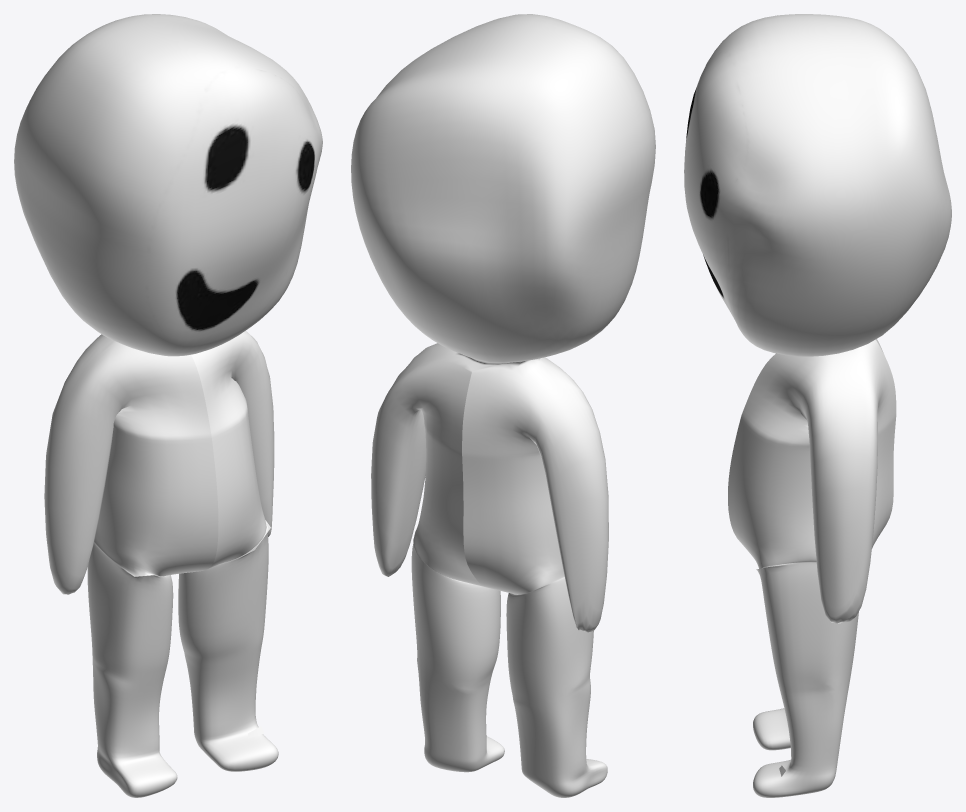
File: spirit.fbx
3 views of the same model, side by side, from view 1: azimuth 30°, elevation 25°; view 2: azimuth 150°, elevation 25°; view 3: azimuth 270°, elevation 25° (orthographic). The views are drawn at different scales.
Visible parts, largest first — view 1: pCube5; view 2: pCube5; view 3: pCube5.
Boxes of the visible parts, x1,y1,x2,y2 form: pCube5: (14, 14, 322, 797); pCube5: (351, 14, 655, 797); pCube5: (684, 14, 951, 797).
Size of the model in its own units: 1.29 by 3.58 by 1.19.
1 material, 1 textured.
